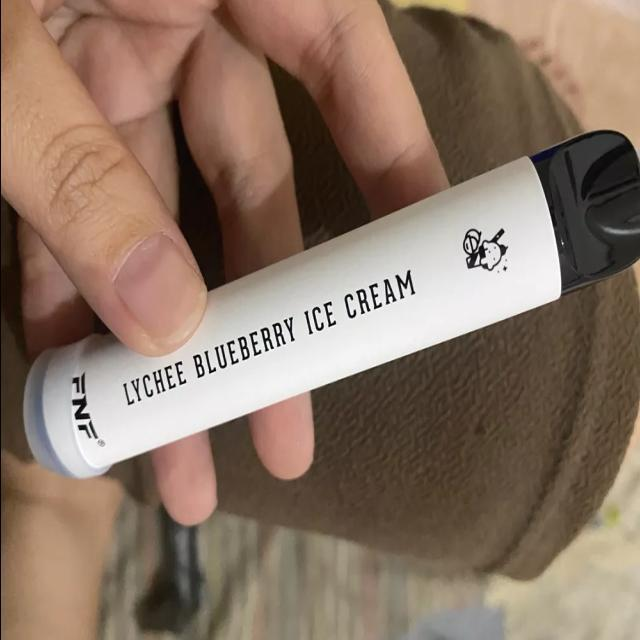Hazard: (17, 124, 640, 478)
